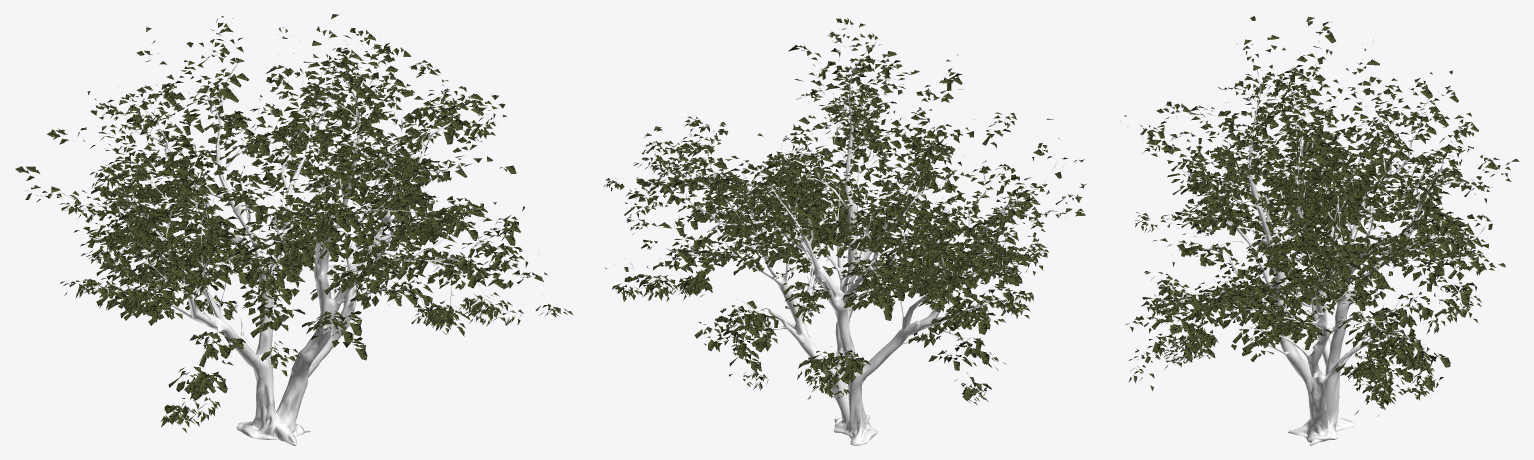
The model's file is jacaranda_tree_shadow.gltf.
3 views of the same model, side by side, from view 1: azimuth 30°, elevation 25°; view 2: azimuth 150°, elevation 25°; view 3: azimuth 270°, elevation 25° (orthographic). The views are drawn at different scales.
Parts seen in each view (by area): view 1: jacaranda_tree_LOD0; view 2: jacaranda_tree_LOD0; view 3: jacaranda_tree_LOD0.
Part boxes in pixels (bbox=[...]): jacaranda_tree_LOD0: bbox=[15, 14, 573, 445]; jacaranda_tree_LOD0: bbox=[603, 18, 1086, 445]; jacaranda_tree_LOD0: bbox=[1120, 16, 1519, 445].
Bounding box in the file's own units: 23.2 × 19.23 × 18.2.
3 materials, 1 textured.
